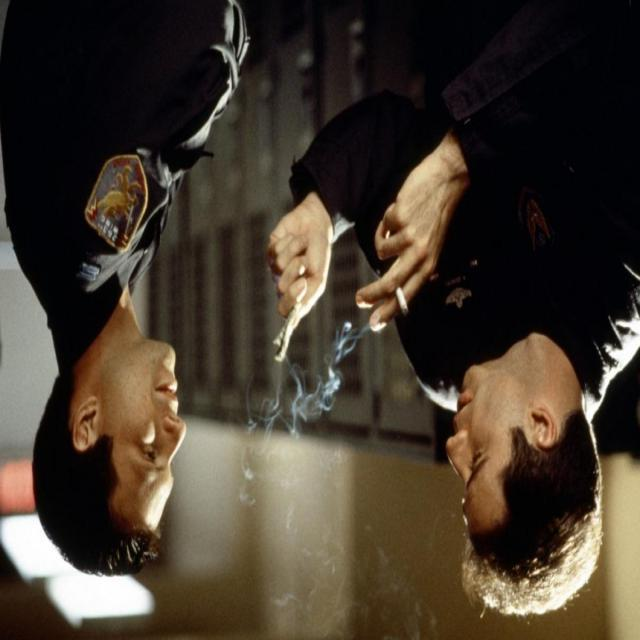cigarette: (261, 270, 313, 385)
